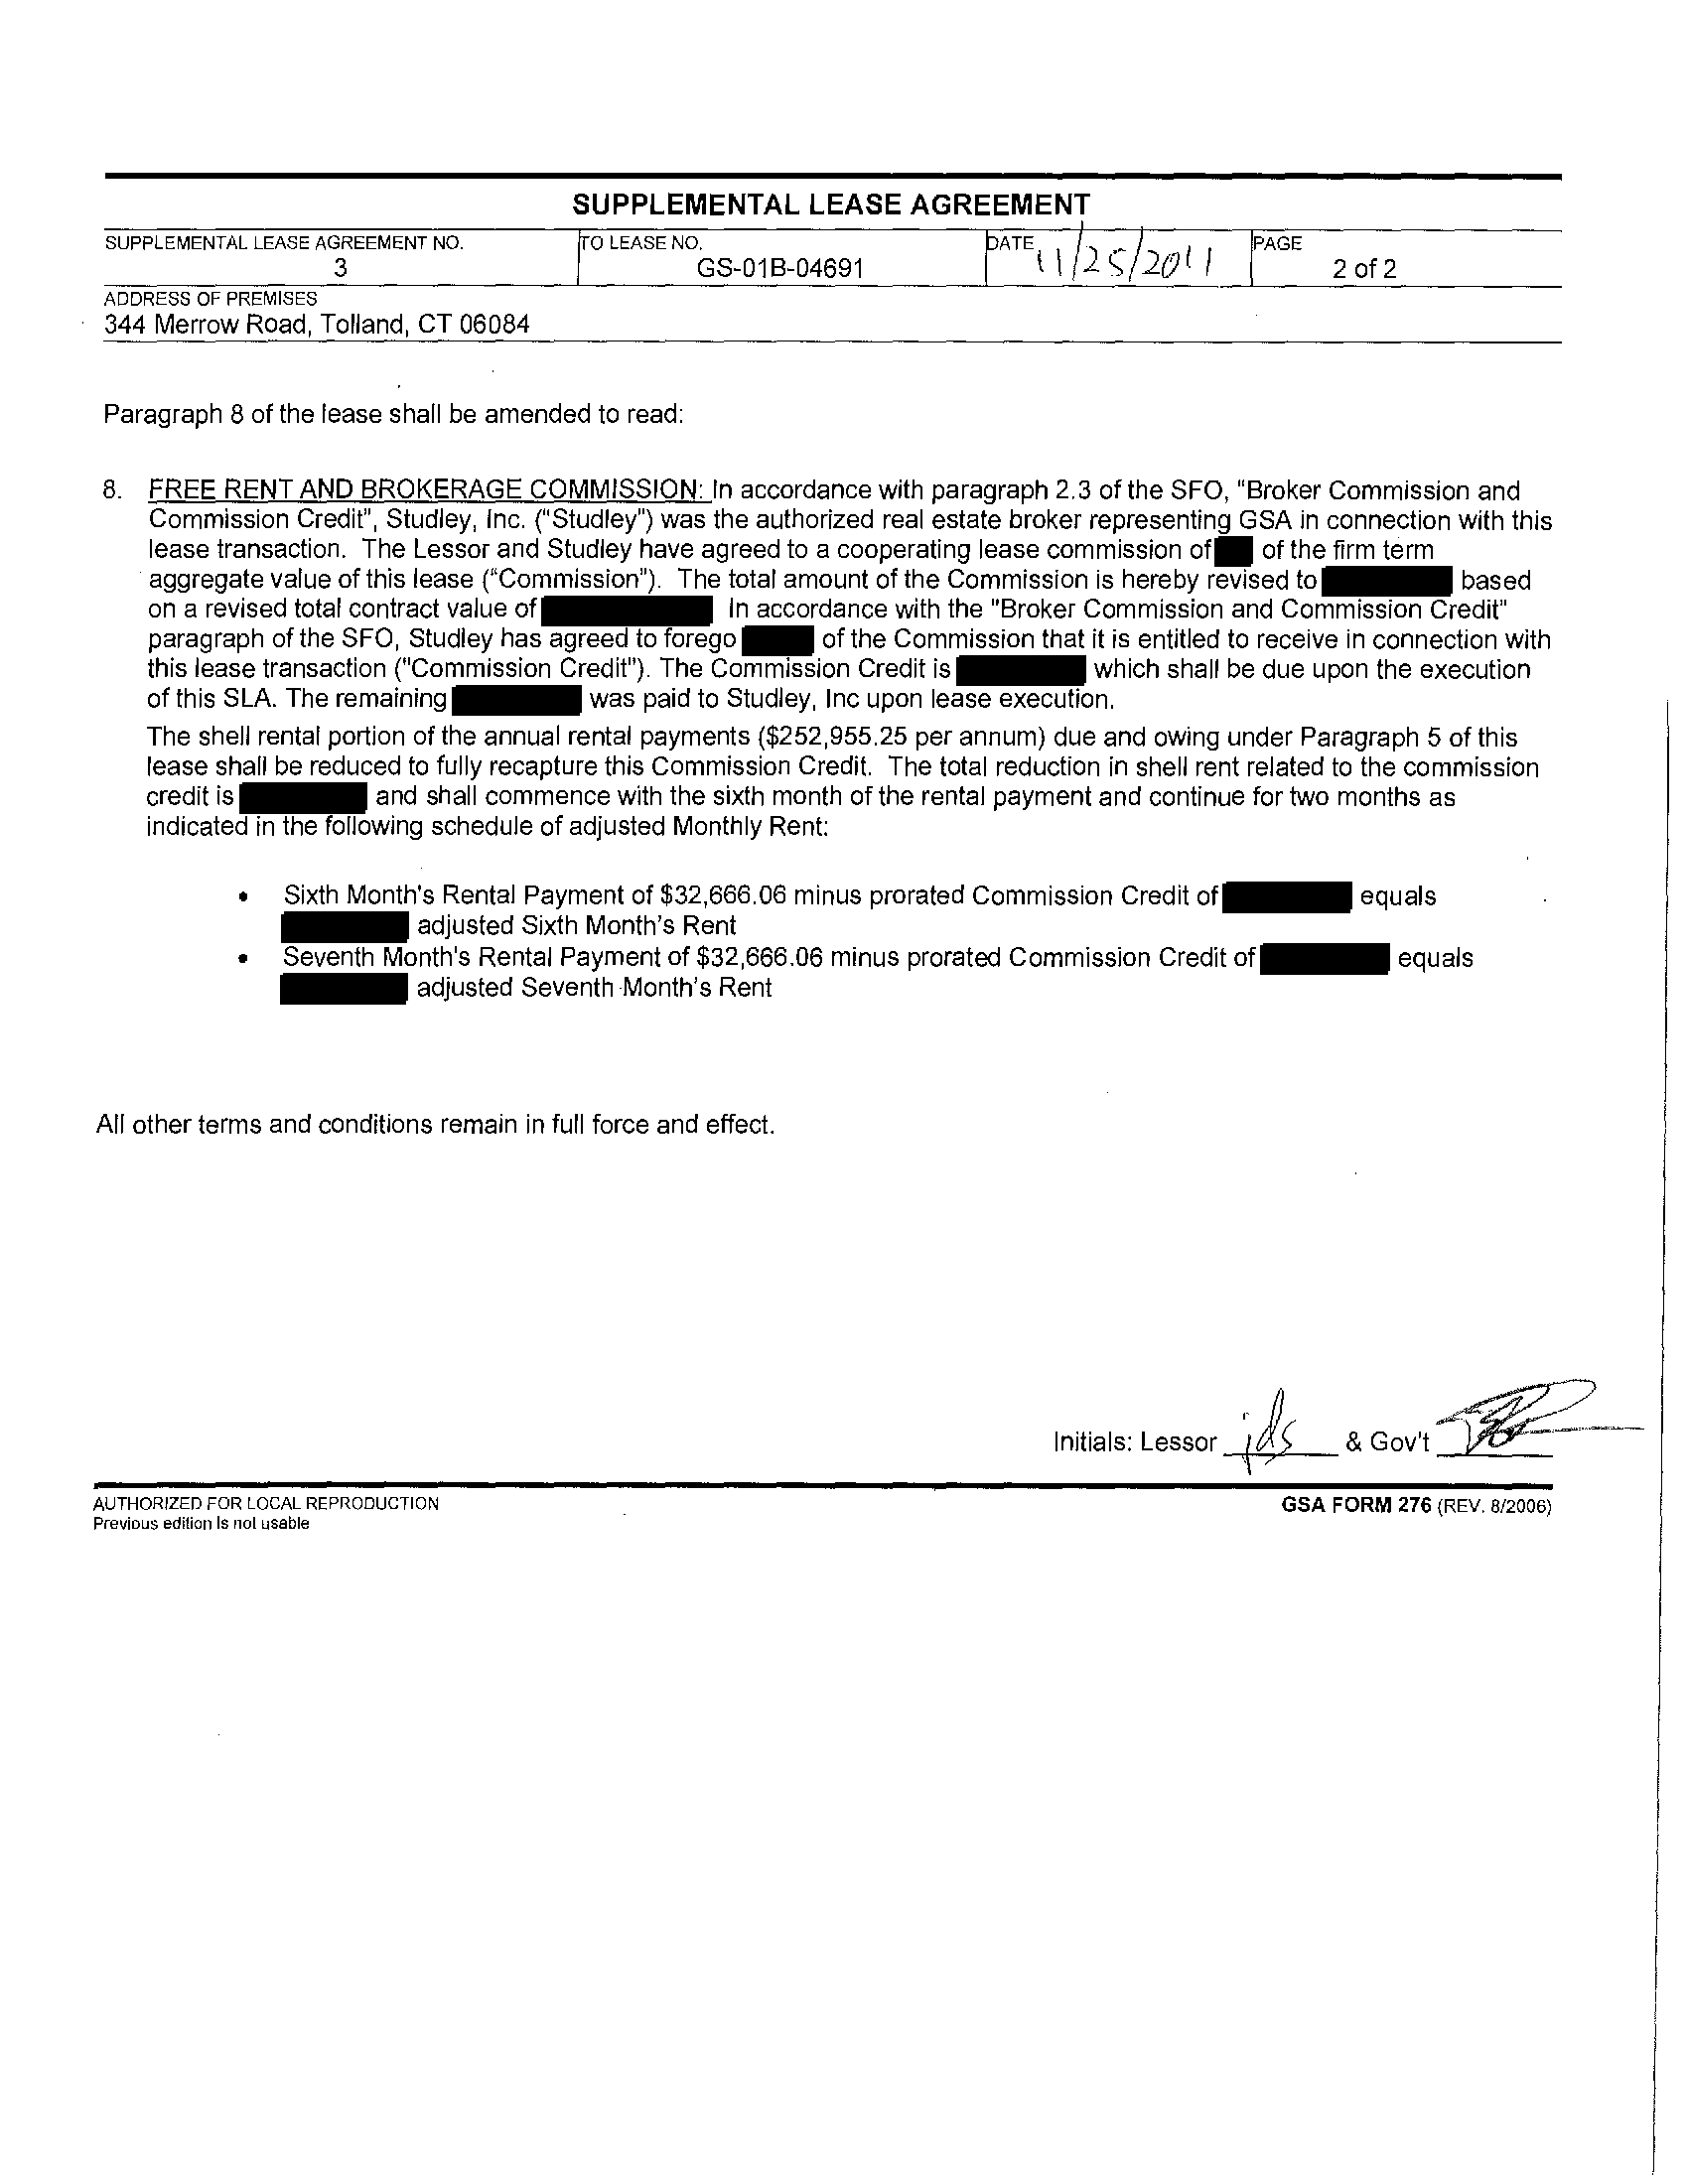handwritten: (1426, 1344, 1645, 1470), (1035, 223, 1243, 285), (1229, 1367, 1303, 1484)
